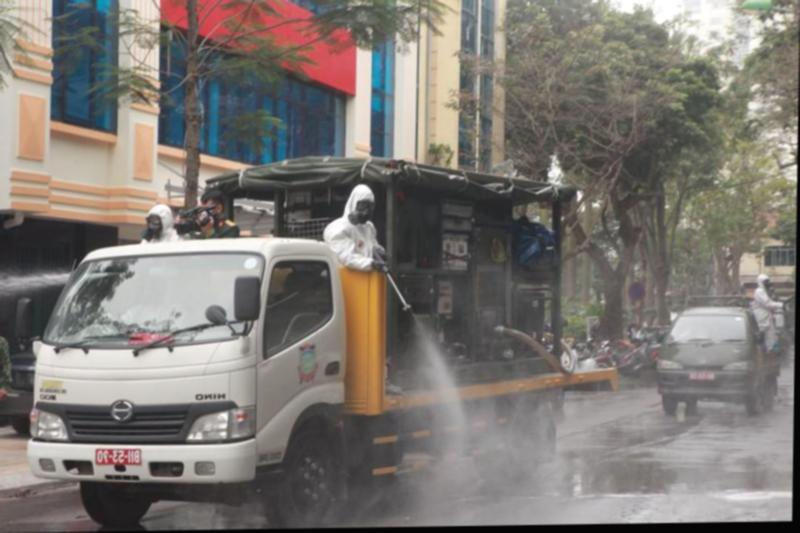License_Plate: (94, 447, 141, 467), (685, 369, 714, 386)
